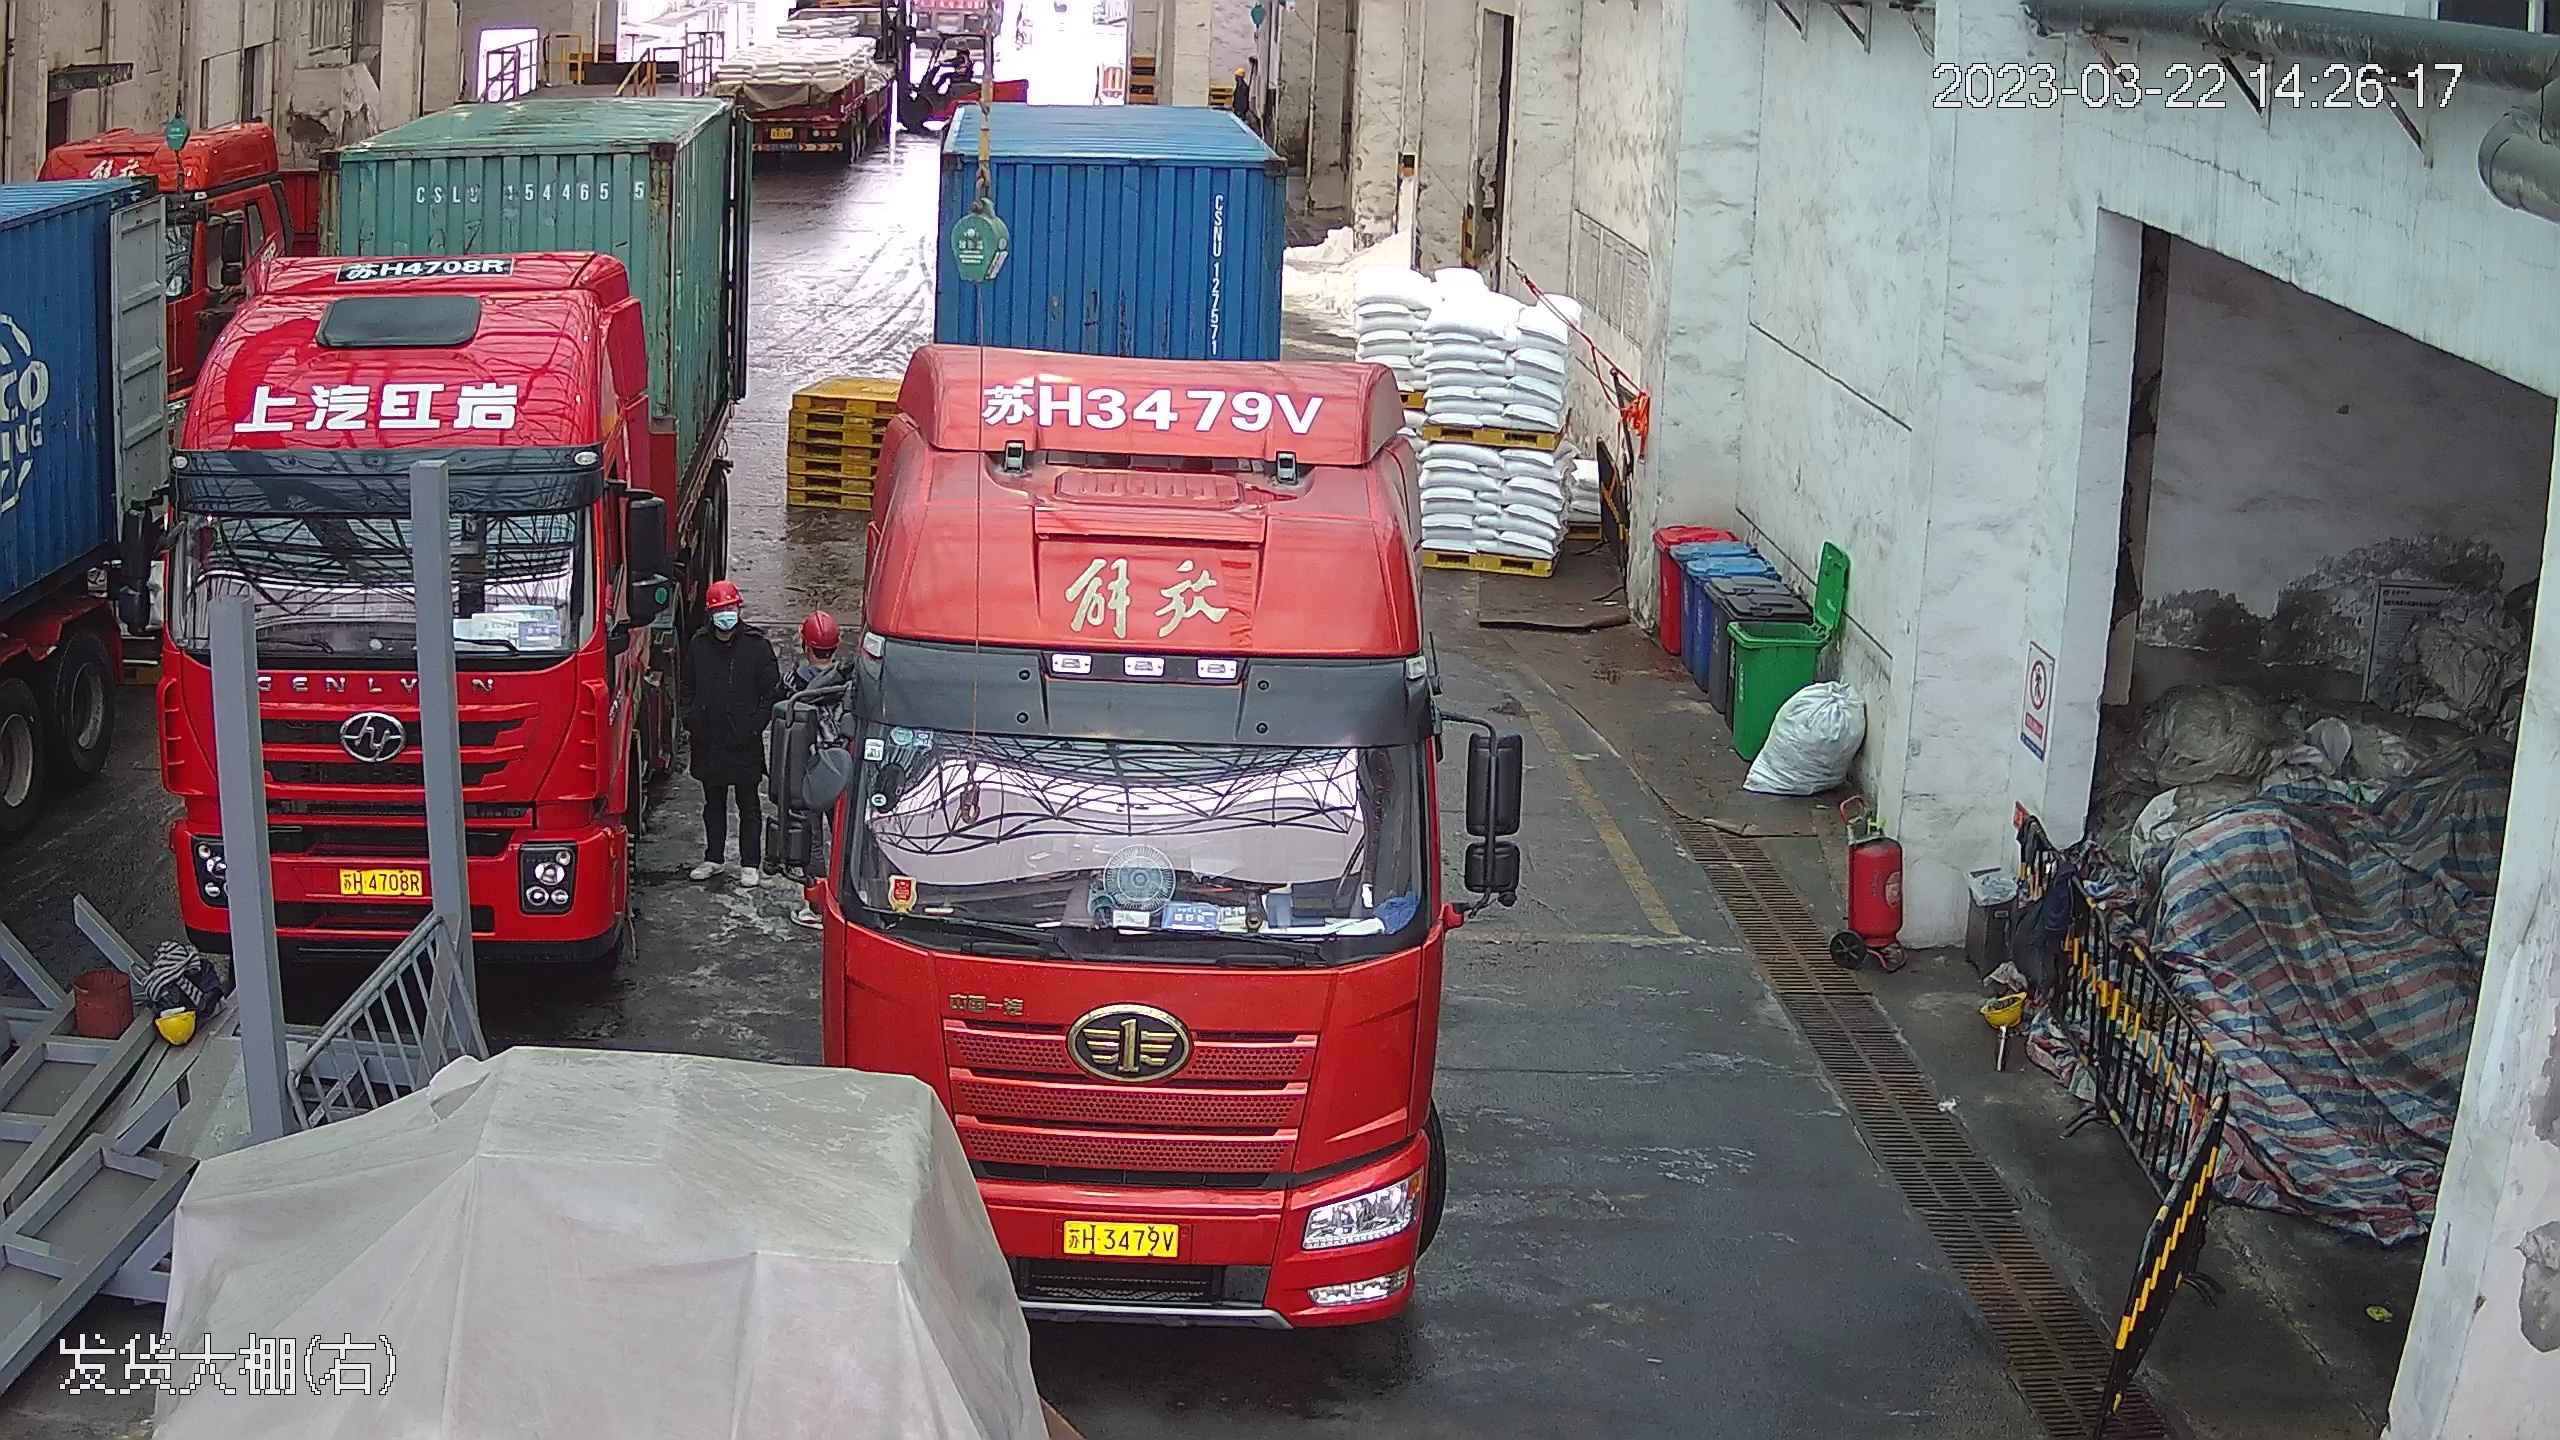head: (690, 577, 770, 675), (786, 609, 854, 697), (1231, 66, 1252, 103)
helmet: (797, 610, 839, 644), (705, 577, 747, 609), (1234, 66, 1246, 78)
people: (673, 577, 781, 886)
truck: (830, 43, 1473, 1311), (153, 47, 765, 968), (1, 133, 165, 981), (717, 5, 911, 172)
